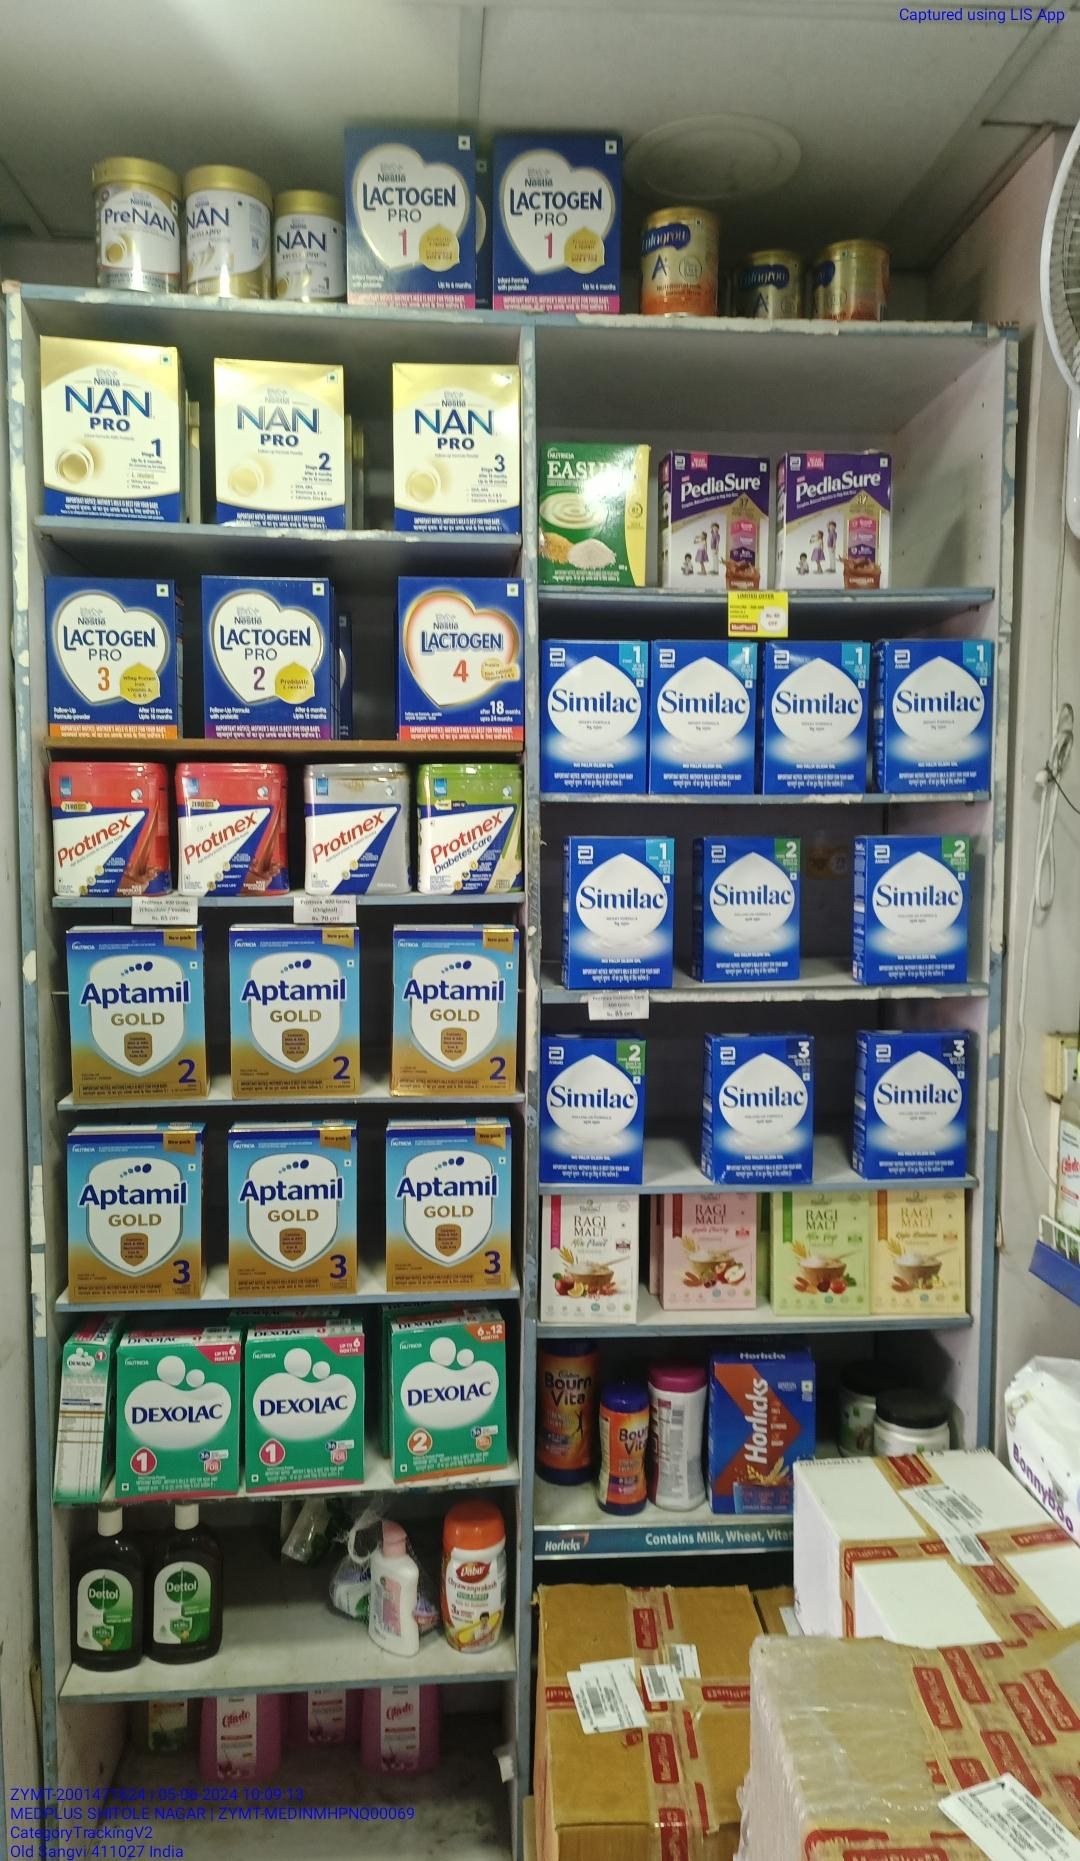BOURN_VITA_200_G_JAR: (597, 1392, 647, 1519)
BOURN_VITA_500_G_JAR: (539, 1342, 593, 1487)
HORLICK_CHOCOLATE_500_G_PACK: (710, 1360, 793, 1513)
PEDIASURE_CHOCOLATE_500_G_PACK: (787, 454, 892, 591), (671, 451, 770, 589)
PROTINEX_CHOCOLATE_400_G_JAR: (50, 760, 172, 897), (176, 763, 289, 896)
